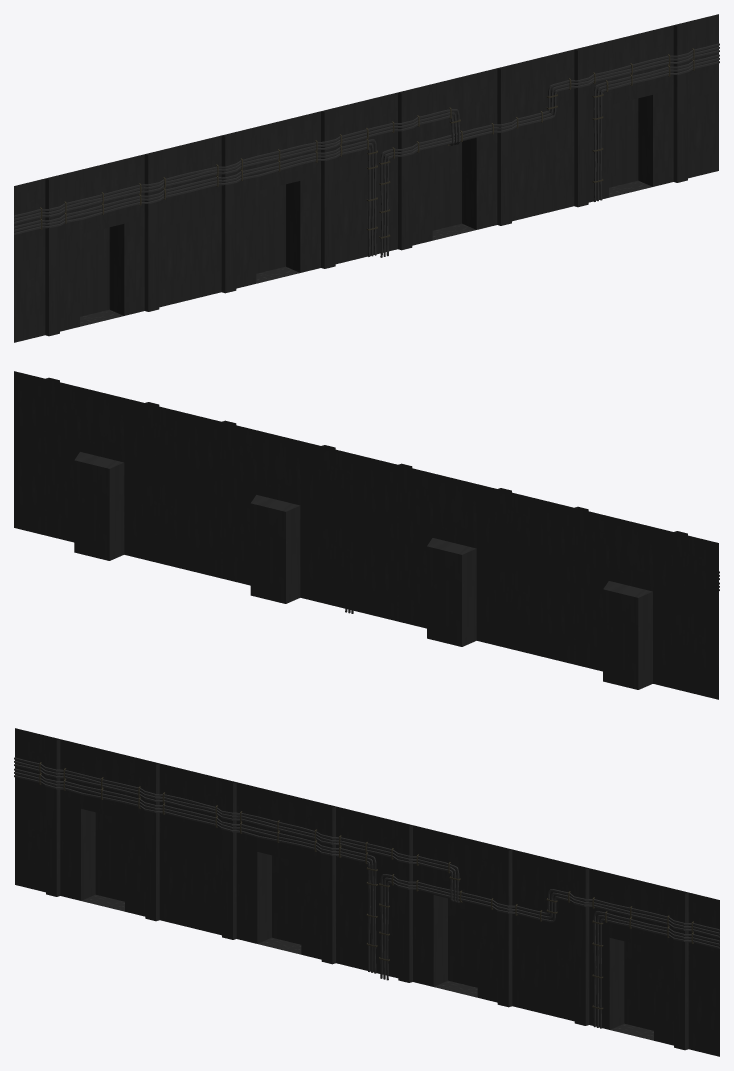
File: SW_ENV_RailTunnelWall_B_02b_20m_FF.fbx
The picture shows the model from 3 angles, top to bottom: view 1: azimuth 30°, elevation 25°; view 2: azimuth 150°, elevation 25°; view 3: azimuth 330°, elevation 25°; orthographic projection.
Visible parts, largest first — view 1: SW_ENV_RailTunnelWall_B_02b_20m_FF; view 2: SW_ENV_RailTunnelWall_B_02b_20m_FF; view 3: SW_ENV_RailTunnelWall_B_02b_20m_FF.
Boxes of the visible parts, left/top/right/bottom form: SW_ENV_RailTunnelWall_B_02b_20m_FF: left=14, top=14, right=719, bottom=342; SW_ENV_RailTunnelWall_B_02b_20m_FF: left=14, top=371, right=719, bottom=699; SW_ENV_RailTunnelWall_B_02b_20m_FF: left=14, top=728, right=719, bottom=1056.
Size of the model in its own units: 2000 by 435 by 64.88.
